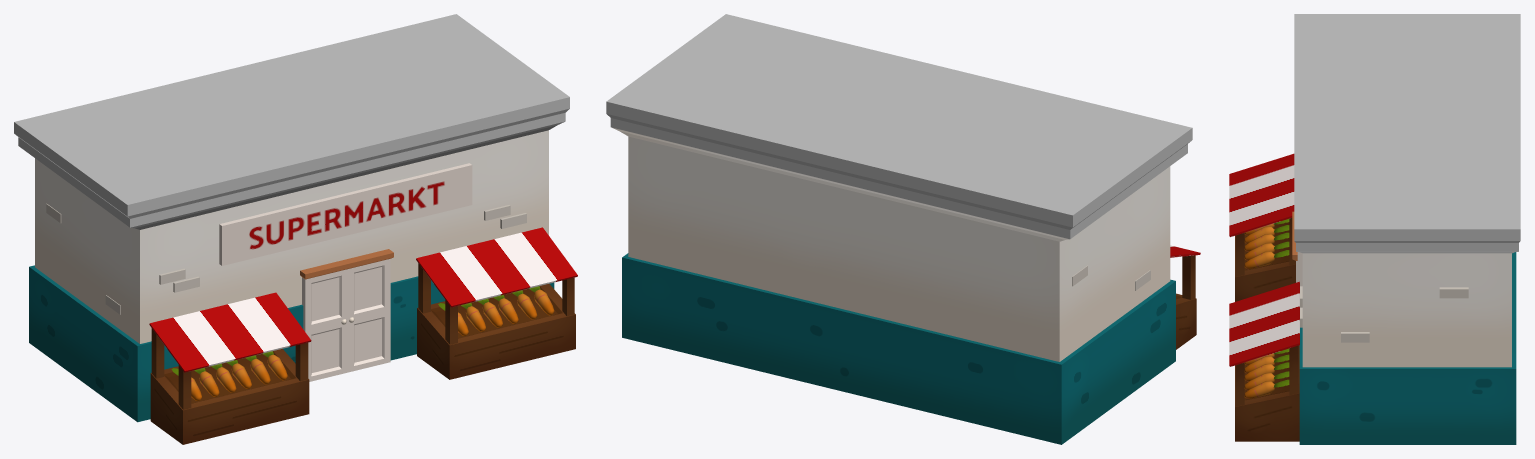
File: store 1.fbx
The picture shows the model from 3 angles, left to right: view 1: azimuth 30°, elevation 25°; view 2: azimuth 150°, elevation 25°; view 3: azimuth 270°, elevation 25°; orthographic projection. The views are drawn at different scales.
Visible parts, largest first — view 1: supermarkt; view 2: supermarkt; view 3: supermarkt.
Part boxes in pixels (bbox=[...]): supermarkt: bbox=[14, 14, 577, 444]; supermarkt: bbox=[606, 14, 1200, 444]; supermarkt: bbox=[1229, 14, 1520, 444].
Bounding box in the file's own units: 9.74 × 4.72 × 5.57.
